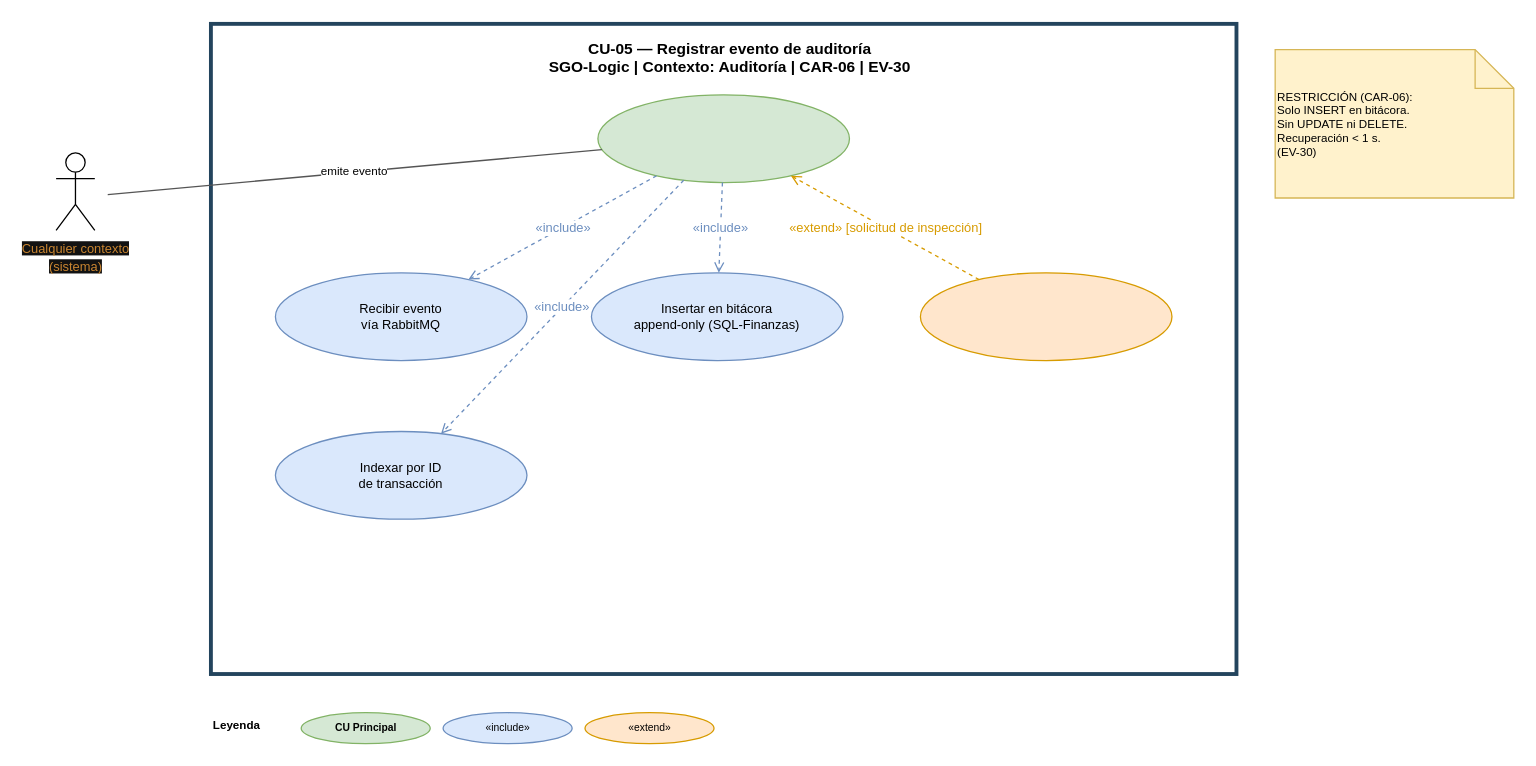
Image size: 1536x766. Some labels were removed from this diagram. The shapes that lost their labels are listed below. From the top down, each one's centre as x and y in pixels, then its label:
At (723,138): "Registrar evento de auditoría".
At (1045,316): "Consultar evidencia por ID transacción".
